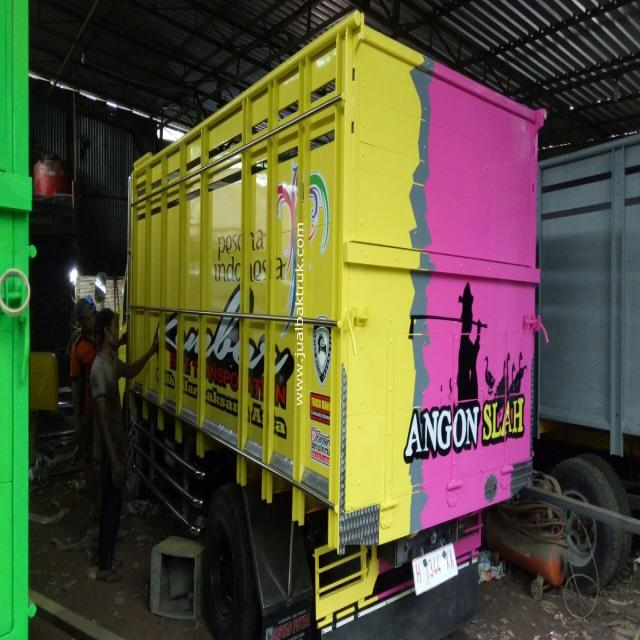truck: (115, 18, 547, 639)
